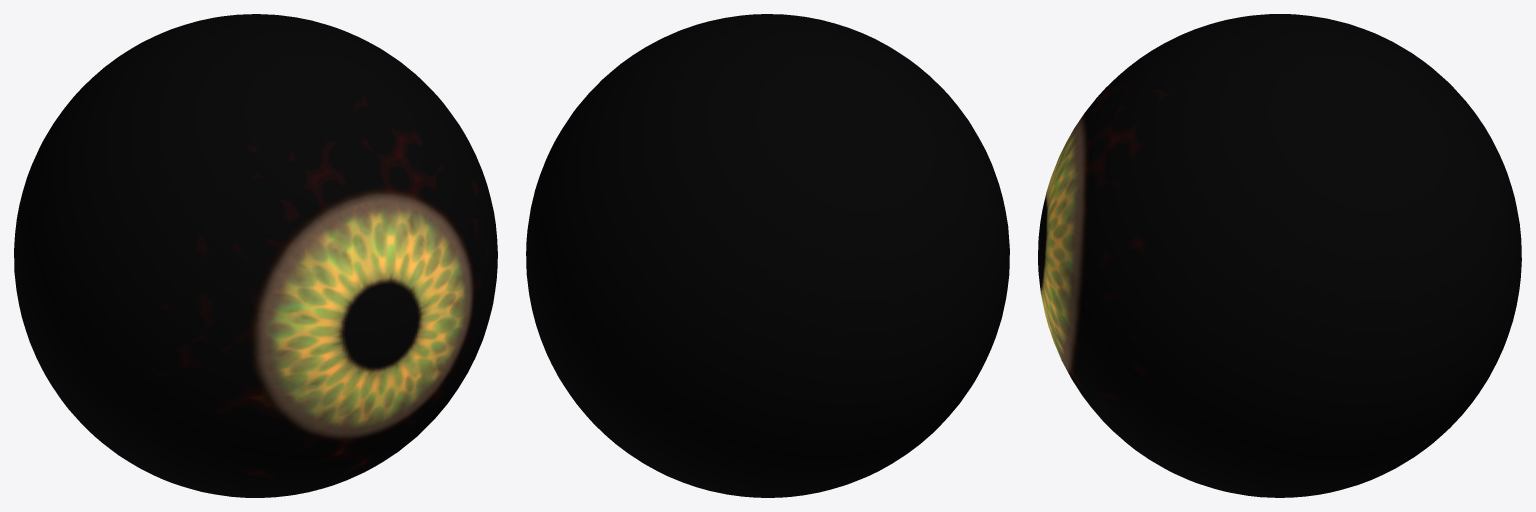
The model's file is watcher-eye.glb.
The picture shows the model from 3 angles, left to right: view 1: azimuth 30°, elevation 25°; view 2: azimuth 150°, elevation 25°; view 3: azimuth 270°, elevation 25°; orthographic projection.
Parts seen in each view (by area): view 1: WatchersEye; view 2: WatchersEye; view 3: WatchersEye.
Boxes of the visible parts, bbox=[...] form: WatchersEye: bbox=[14, 14, 497, 497]; WatchersEye: bbox=[526, 14, 1009, 497]; WatchersEye: bbox=[1038, 14, 1521, 497].
Size of the model in its own units: 0.4796 by 0.48 by 0.4797.
Materials: 1 (1 with a texture image).
